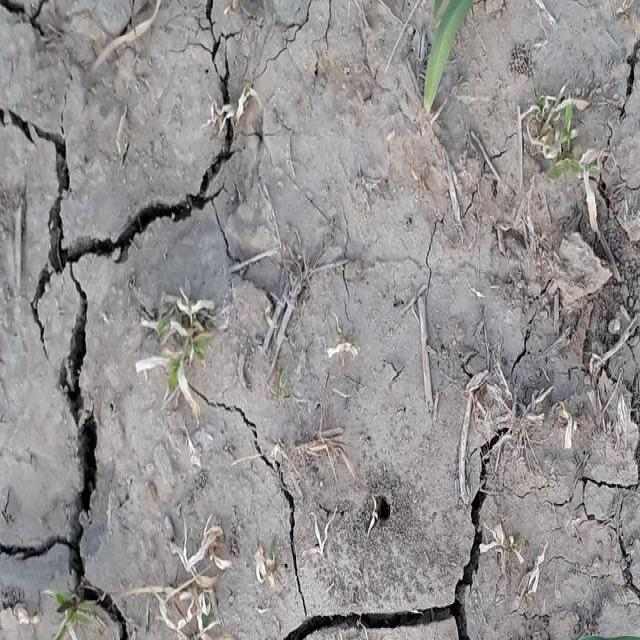weed: (140, 492, 250, 640), (137, 278, 220, 439), (507, 82, 615, 196)
